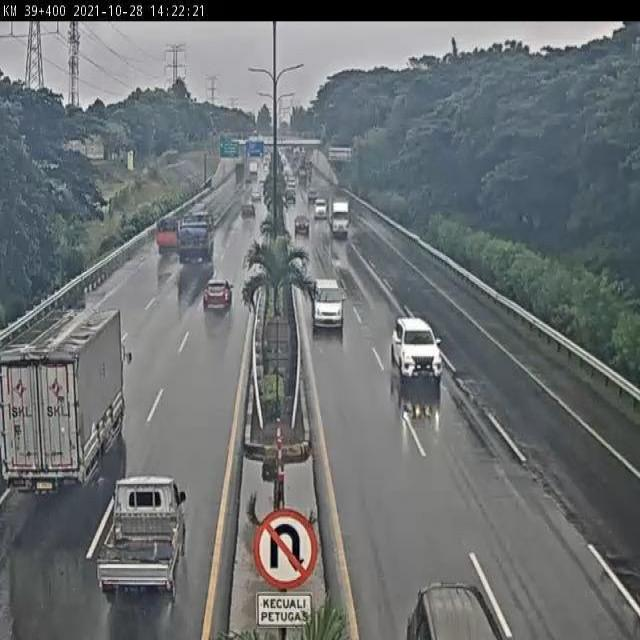car: (292, 214, 311, 238)
truck-l-: (0, 308, 123, 493), (180, 212, 218, 268)
truck-m-: (328, 188, 351, 235)
truck-s-: (155, 215, 183, 252)
